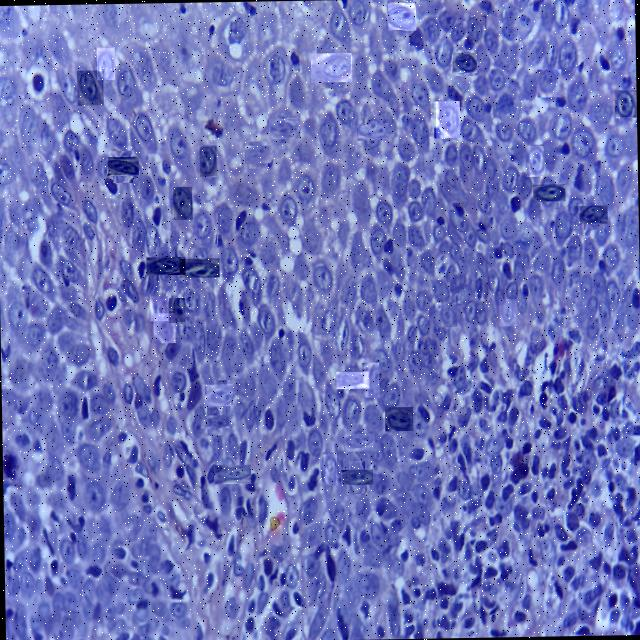Multiple Nucleol: (311, 53, 352, 82), (435, 101, 459, 138), (77, 71, 103, 105), (388, 3, 416, 30), (192, 213, 217, 243), (179, 259, 219, 277), (146, 257, 185, 275), (537, 69, 562, 96), (153, 313, 175, 343), (385, 407, 412, 431), (215, 465, 250, 483), (204, 384, 232, 406), (269, 118, 298, 139), (117, 67, 136, 99), (614, 90, 636, 117), (173, 187, 191, 219), (96, 47, 114, 79), (336, 372, 369, 389), (107, 157, 138, 175), (435, 302, 457, 327), (533, 184, 564, 201), (364, 362, 379, 397), (199, 146, 215, 176), (579, 206, 607, 223), (342, 470, 373, 485), (344, 434, 373, 450), (499, 299, 516, 326), (469, 15, 486, 42), (452, 53, 476, 72), (528, 146, 543, 176), (322, 453, 336, 485), (358, 124, 387, 139), (150, 296, 167, 321), (245, 146, 271, 162), (169, 298, 185, 322), (201, 414, 227, 428)
